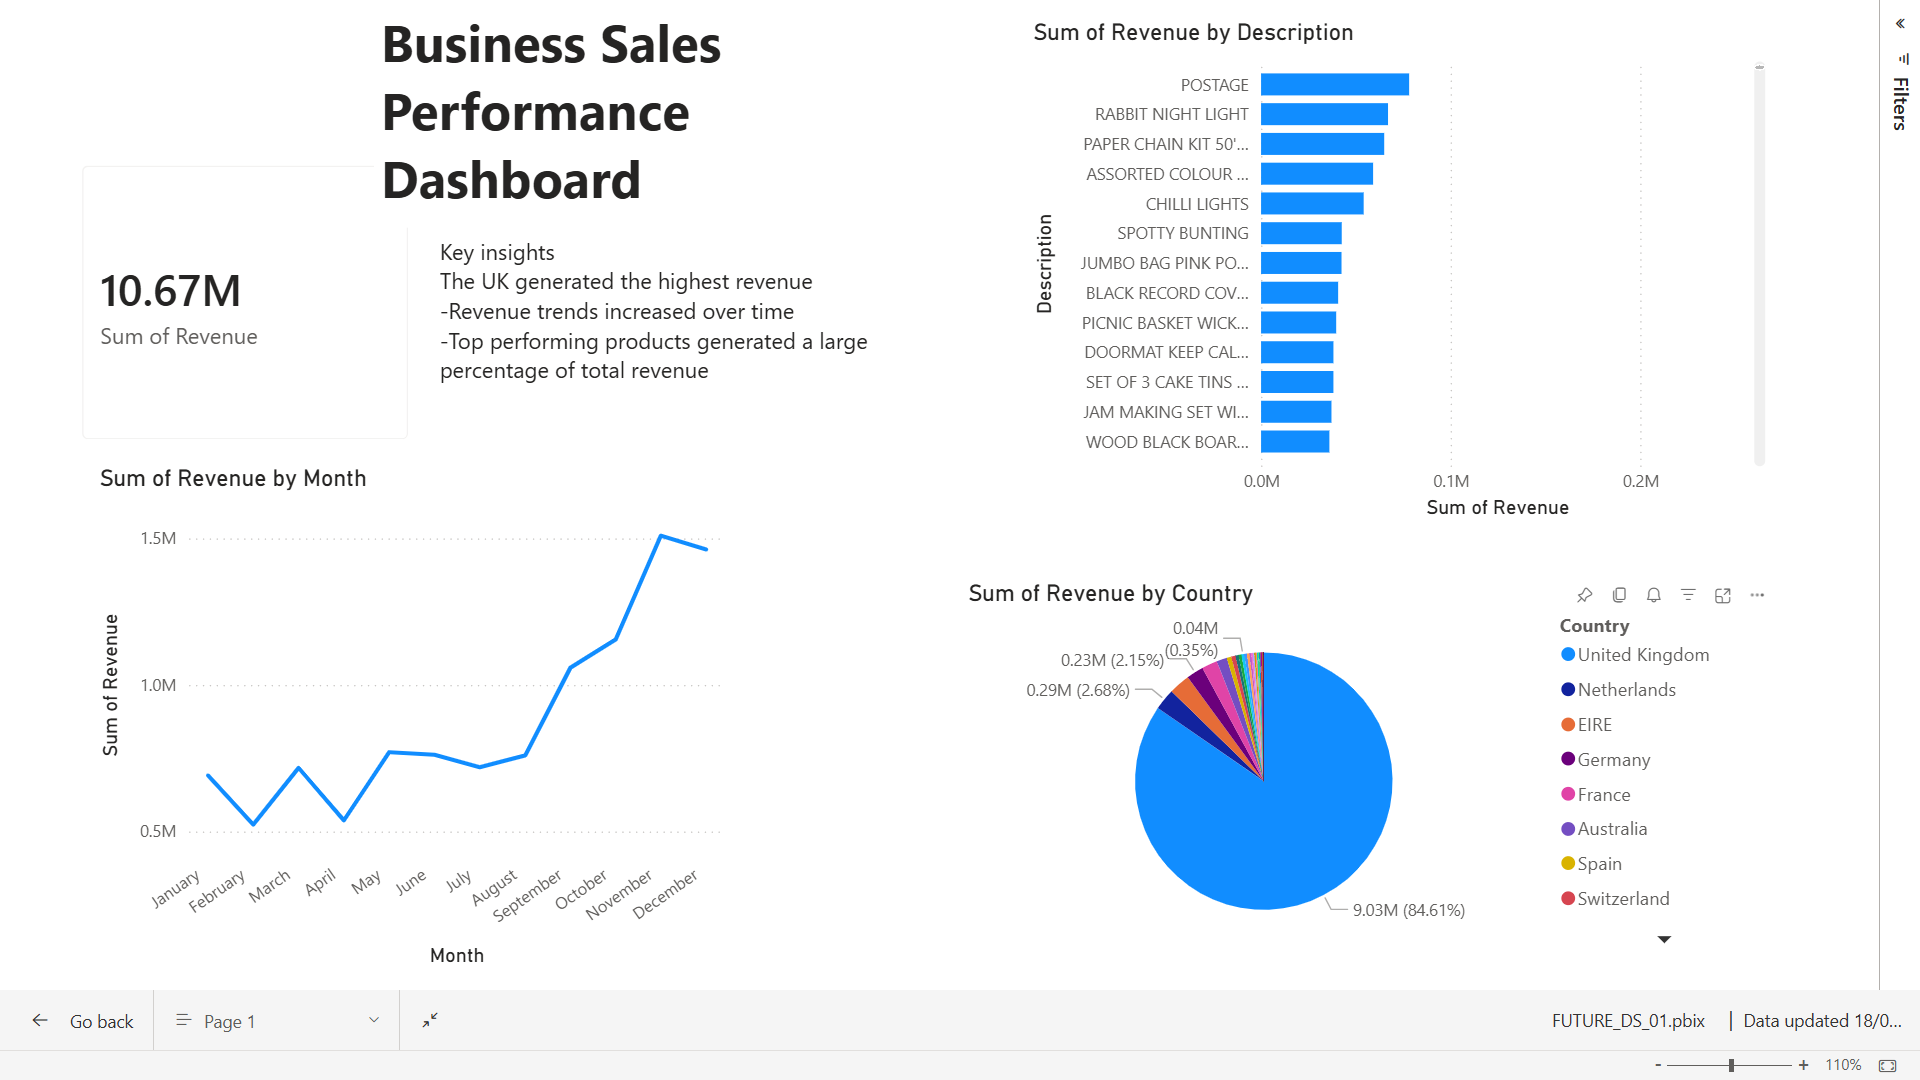

Layout of this report page (visuals, bound fields, positions):
{"tool":"powerbi","page":{"name":"Page 1","canvas":[1280,720],"ordinal":0},"visuals":[{"type":"cardVisual","fields":{"Data":["Sum(online_retail.Revenue)"]},"box":[0,103.9,271.2,233.7],"z":0},{"type":"lineChart","fields":{"Y":["Sum(online_retail.Revenue)"],"Category":["online_retail.InvoiceDate.Variation.Date Hierarchy.Year","online_retail.InvoiceDate.Variation.Date Hierarchy.Quarter","online_retail.InvoiceDate.Variation.Date Hierarchy.Month","online_retail.InvoiceDate.Variation.Date Hierarchy.Day"]},"box":[24.5,337.6,464.6,370.8],"z":1},{"type":"barChart","fields":{"Y":["Sum(online_retail.Revenue)"],"Category":["online_retail.Description"]},"box":[704.1,13,542.5,369.4],"z":2},{"type":"pieChart","fields":{"Y":["Sum(online_retail.Revenue)"],"Category":["online_retail.Country"]},"box":[656.5,421.3,590.1,275.6],"z":3},{"type":"textbox","box":[229.4,0,427.1,165.9],"z":4},{"type":"textbox","box":[272,166,384,172],"z":5}]}

Visuals, with their boxes on the page's 1280x720 design canvas (x1, y1, x2, y2). These are canvas units, not pixel positions in the 1920x1080 screenshot, which may show the page scaled, cropped or inside an application window:
cardVisual - Sum(online_retail.Revenue): bbox(0, 104, 271, 338)
lineChart - Sum(online_retail.Revenue) x online_retail.InvoiceDate.Variation.Date Hierarchy.Year: bbox(24, 338, 489, 708)
barChart - Sum(online_retail.Revenue) x online_retail.Description: bbox(704, 13, 1247, 382)
pieChart - Sum(online_retail.Revenue) x online_retail.Country: bbox(656, 421, 1247, 697)
textbox: bbox(229, 0, 656, 166)
textbox: bbox(272, 166, 656, 338)
